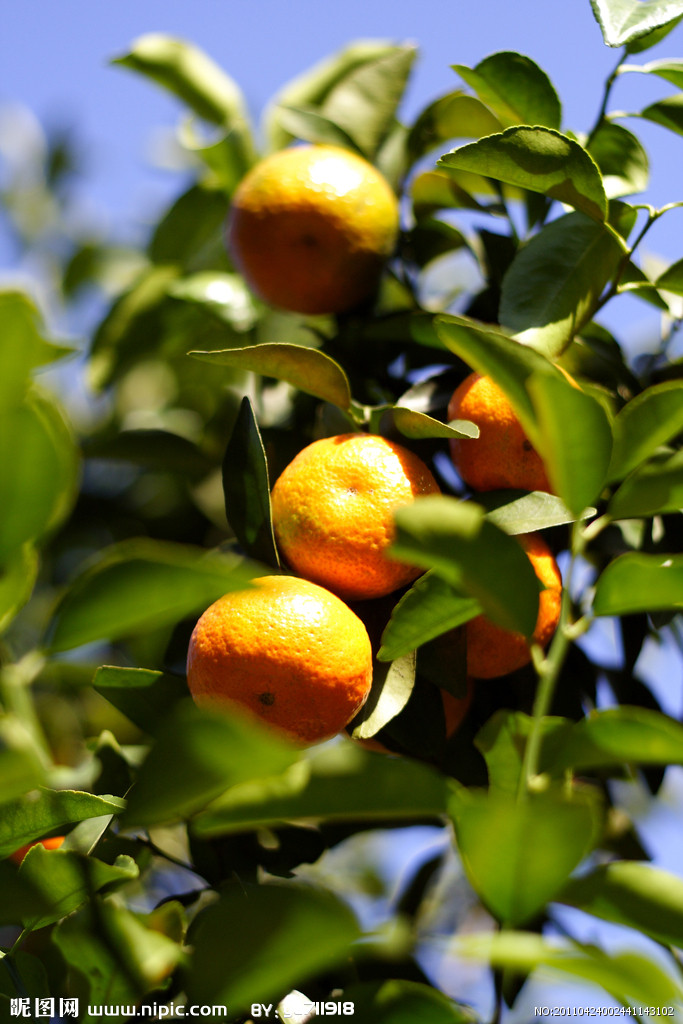orange: (187, 571, 374, 743), (274, 429, 443, 593), (233, 146, 395, 306), (446, 349, 601, 505), (416, 536, 558, 674)
